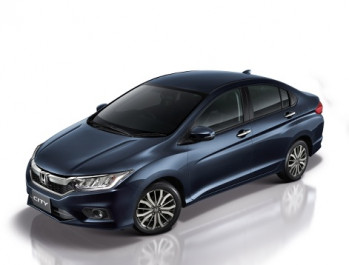sedan: (23, 68, 324, 236)
